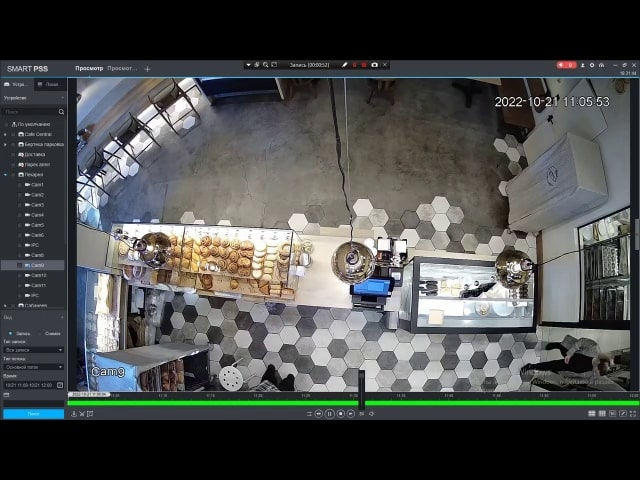barcounter: (94, 224, 537, 333)
person: (534, 333, 616, 386)
